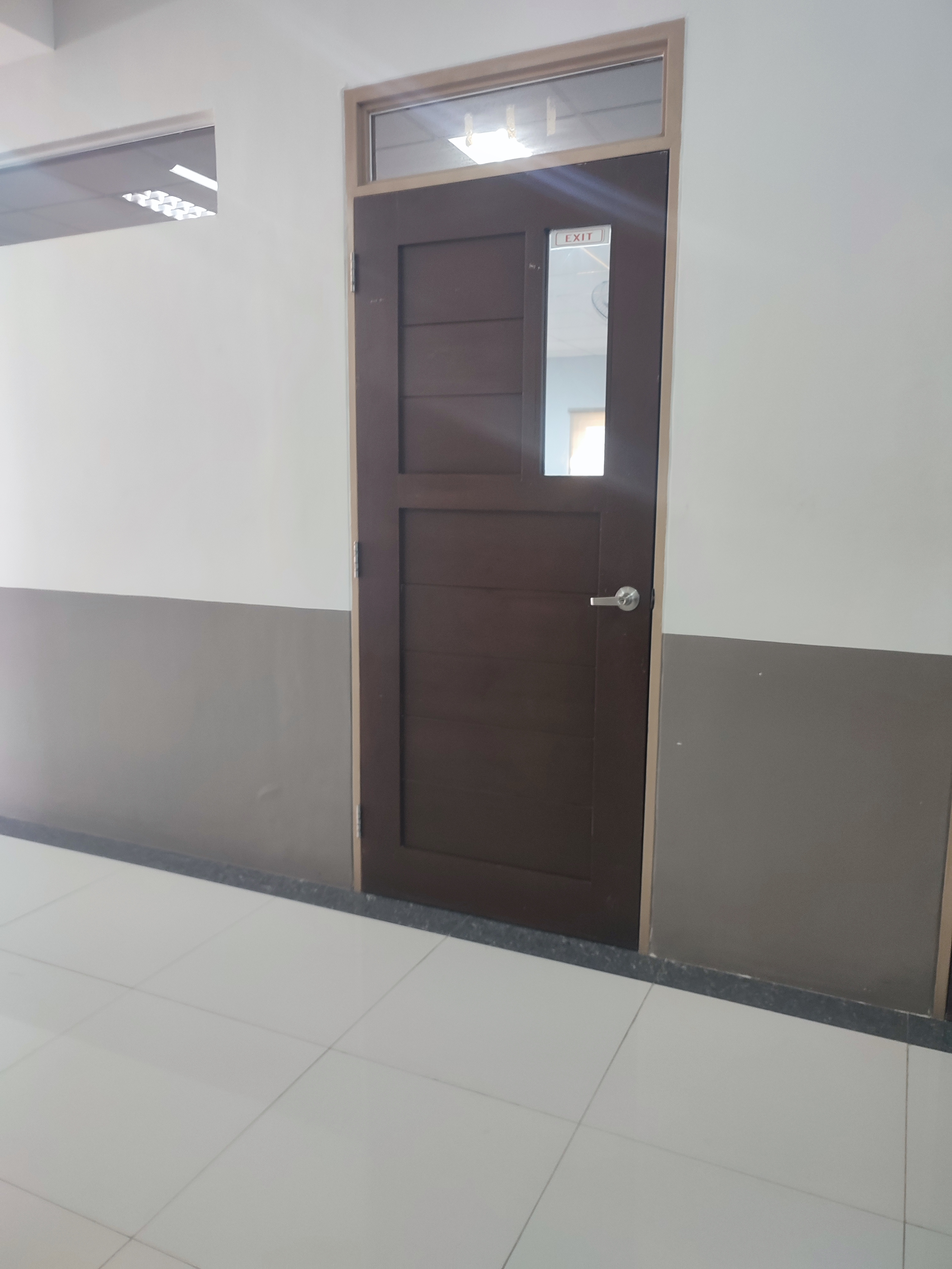door: (342, 21, 687, 954)
